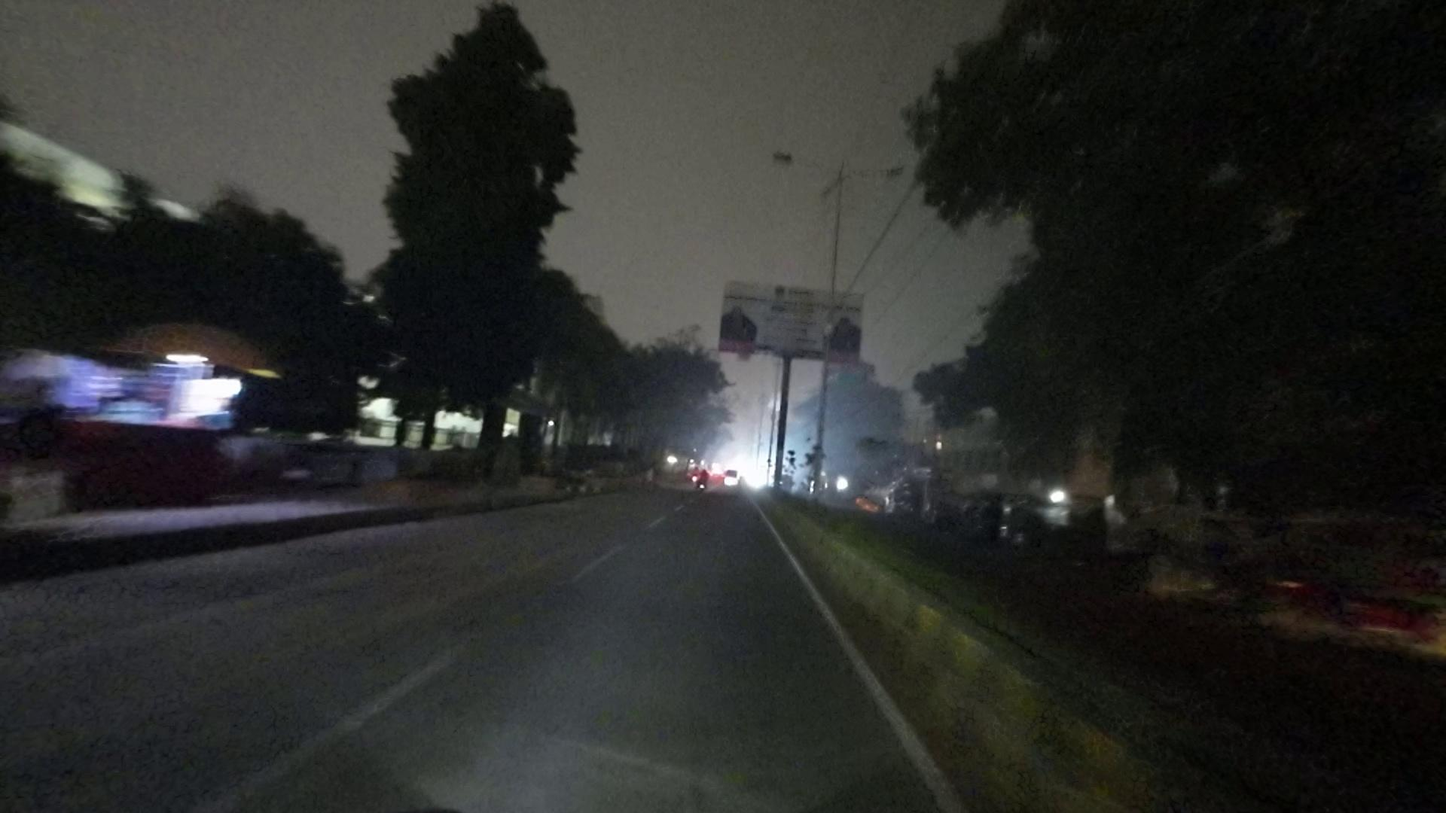streetlight: (773, 149, 837, 173)
